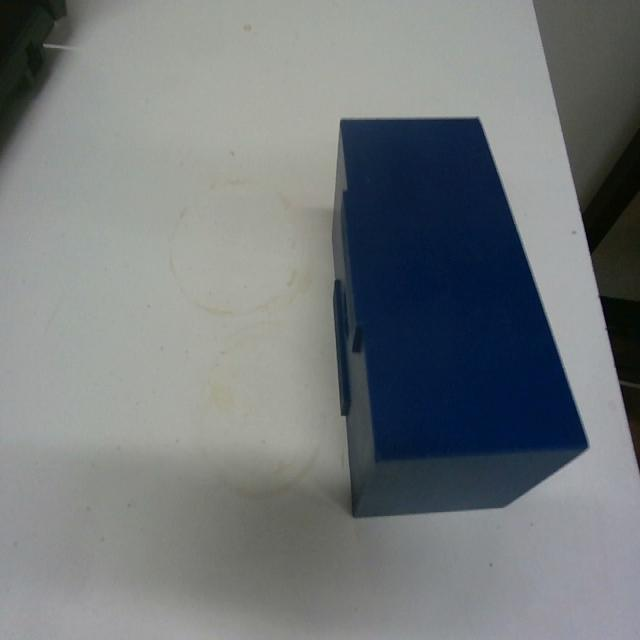Blue Cuboid: (328, 112, 590, 519)
